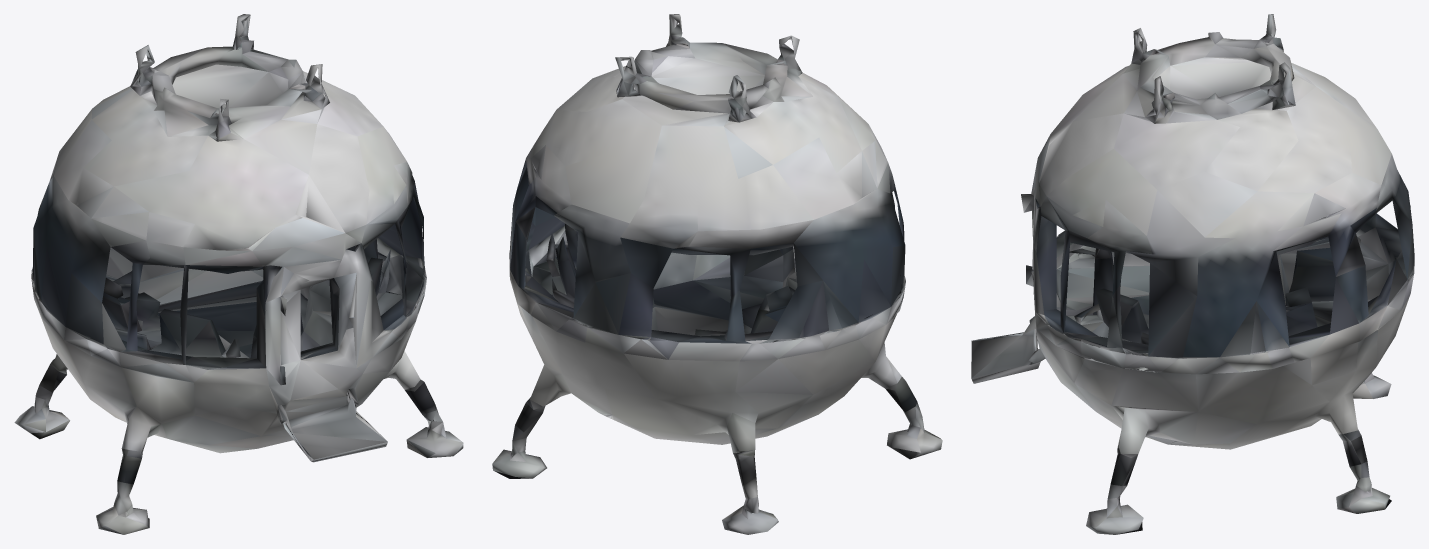
File: stratos.glb
3 views of the same model, side by side, from view 1: azimuth 30°, elevation 25°; view 2: azimuth 150°, elevation 25°; view 3: azimuth 270°, elevation 25° (orthographic).
Parts seen in each view (by area): view 1: LO.001; view 2: LO.001; view 3: LO.001.
Boxes of the visible parts, x1,y1,x2,y2 form: LO.001: (14, 14, 463, 534); LO.001: (492, 14, 942, 534); LO.001: (971, 14, 1414, 534).
Bounding box in the file's own units: 3.75 × 3.98 × 3.91.
1 material, 1 textured.
